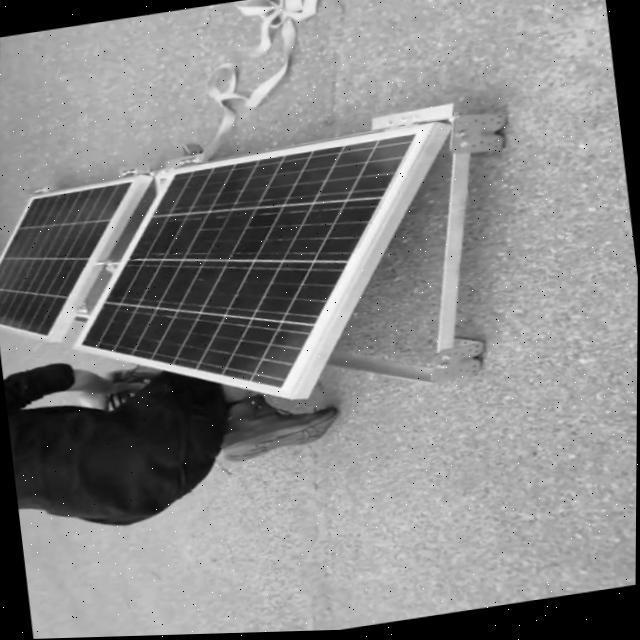Normal Solar Panel: (61, 136, 441, 418), (0, 182, 147, 343)
